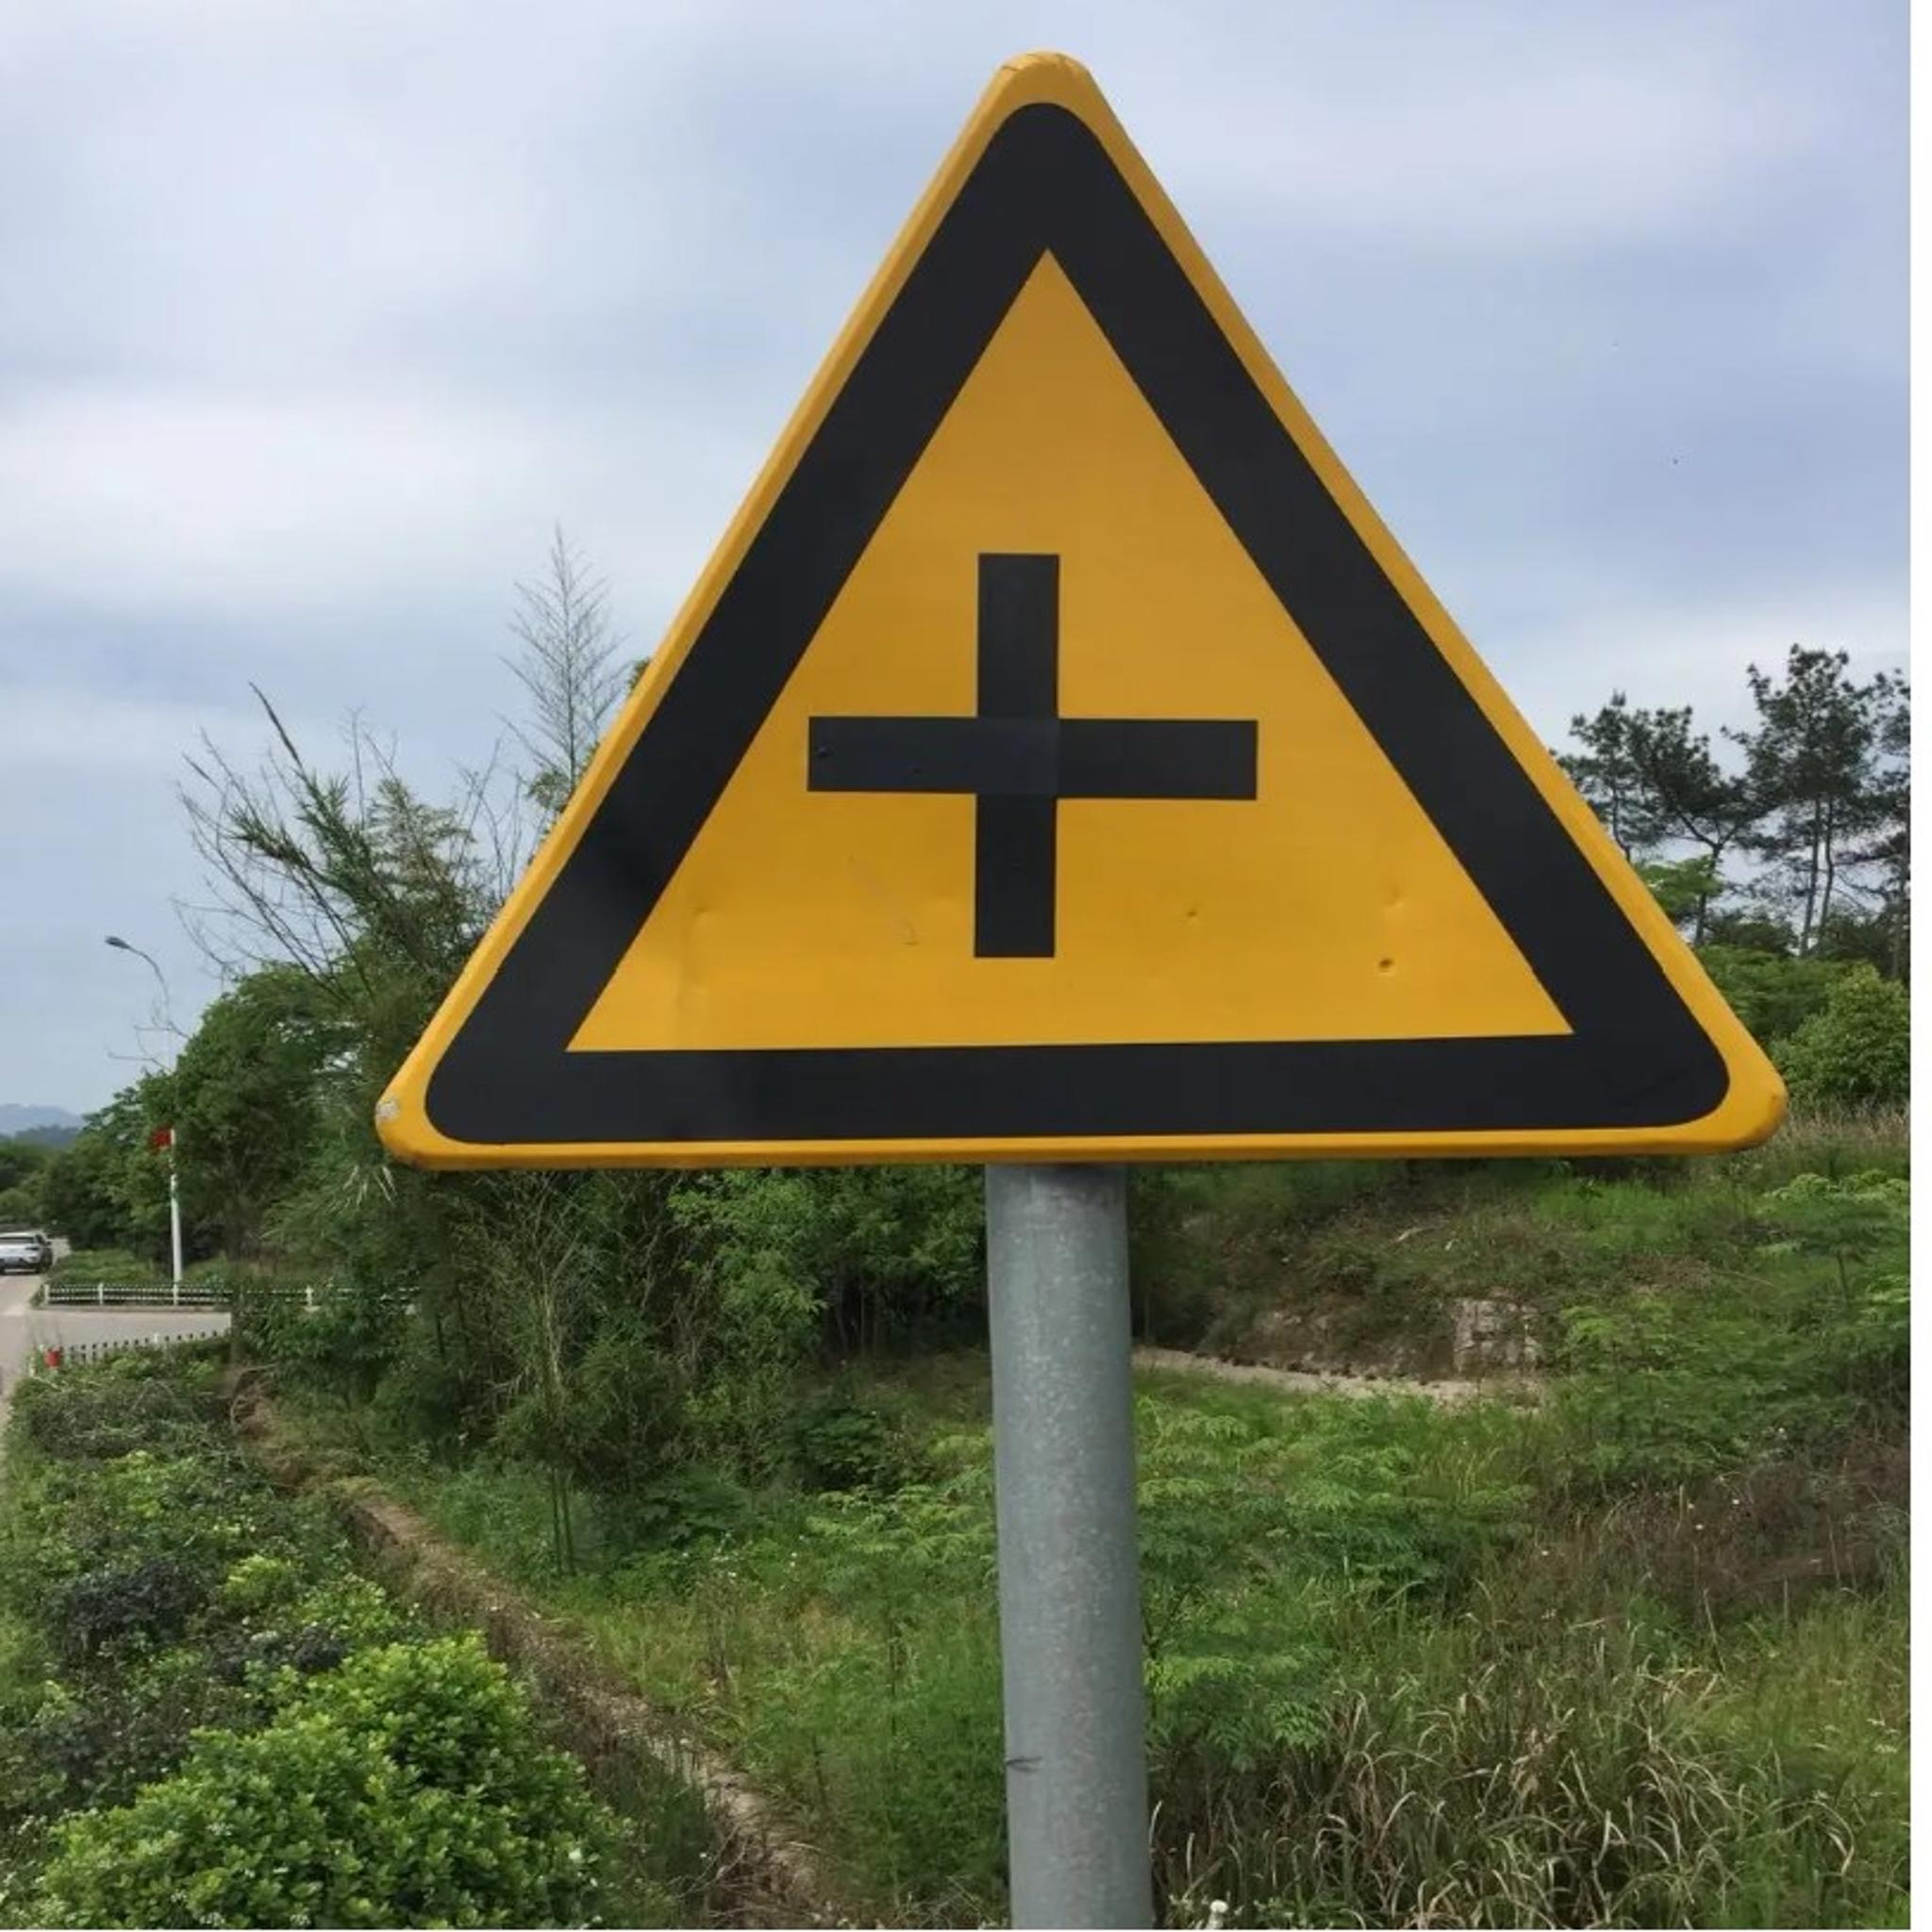w13: (372, 53, 1792, 1177)
